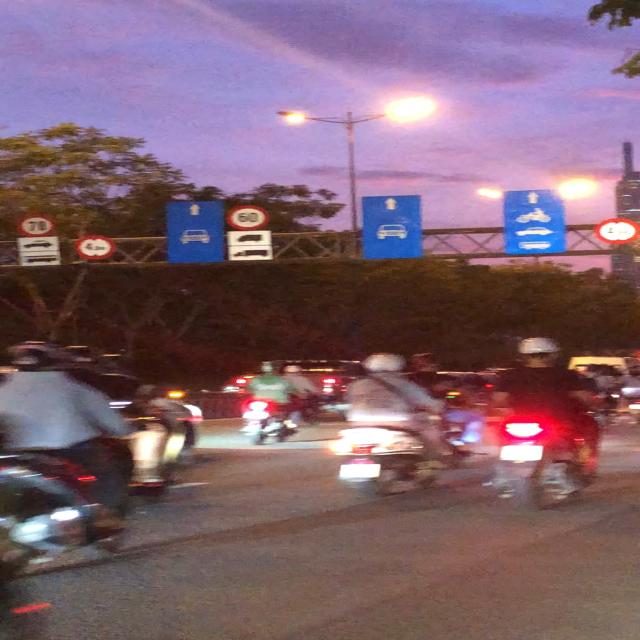Bien bao han che chieu cao: (70, 234, 124, 262)
Bien bao toc do toi da cho phep: (221, 203, 275, 231), (12, 210, 64, 234)
